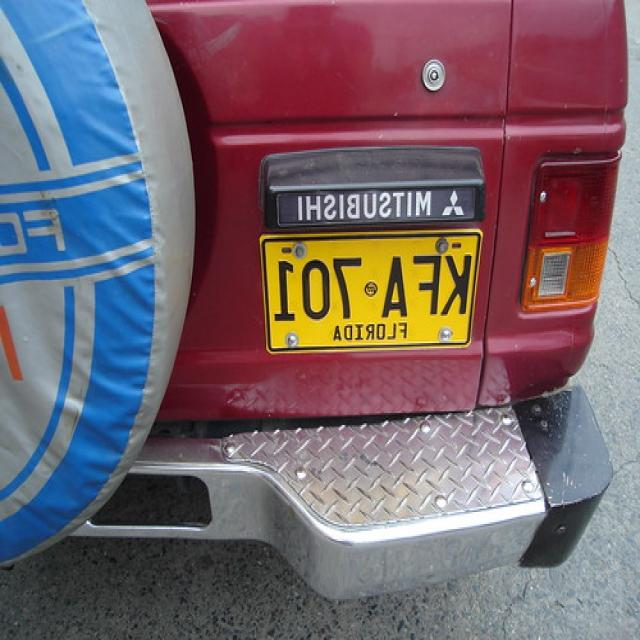placas: (266, 246, 474, 322)
